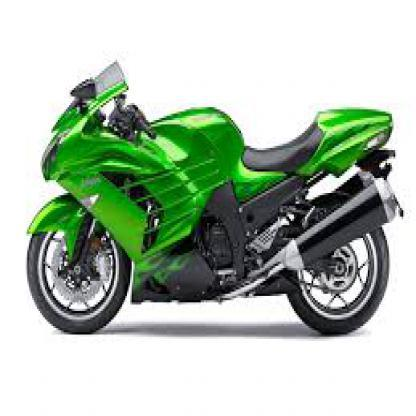Motorcycle: (21, 57, 404, 338)
